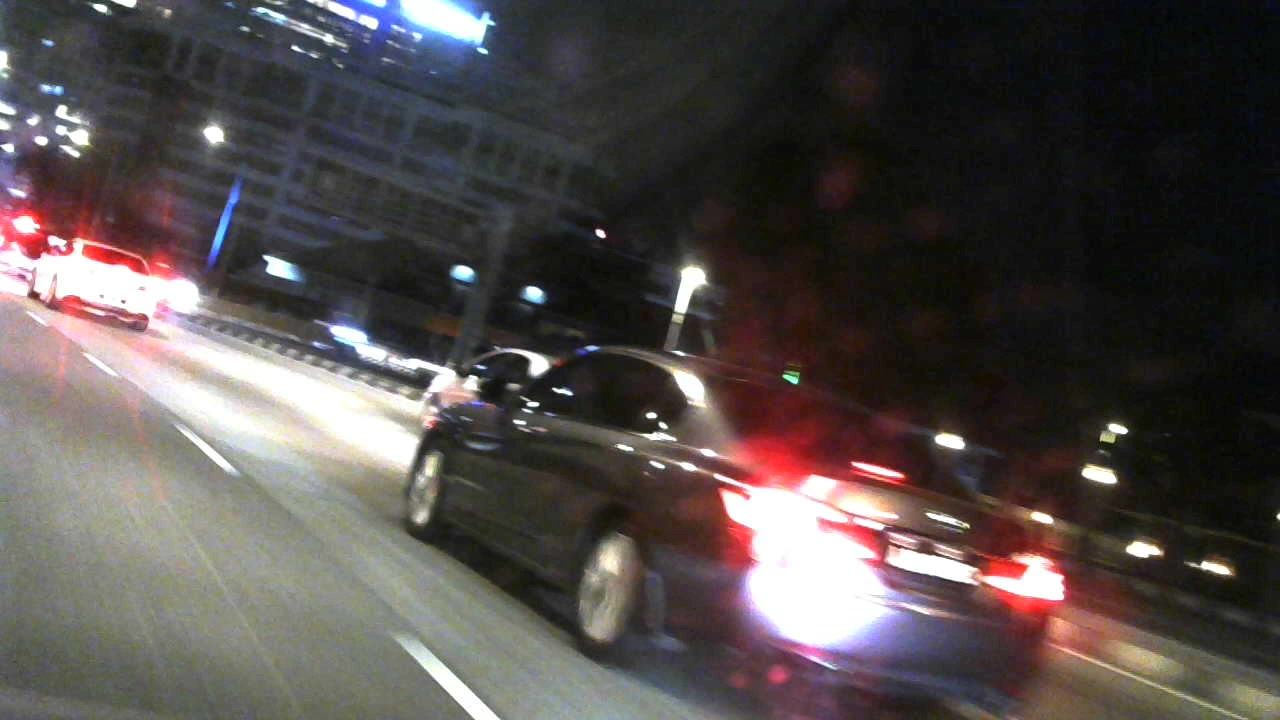Car: (393, 334, 1067, 712), (26, 231, 171, 331), (405, 325, 544, 426)
